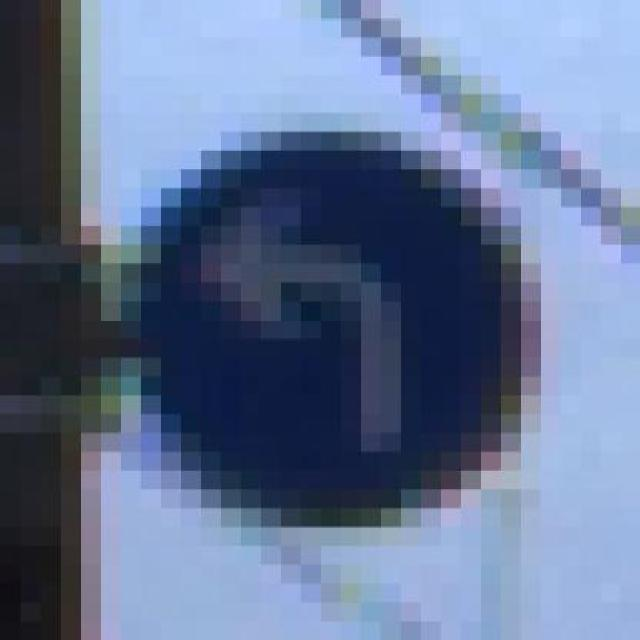Turn left ahead: (140, 113, 560, 527)
